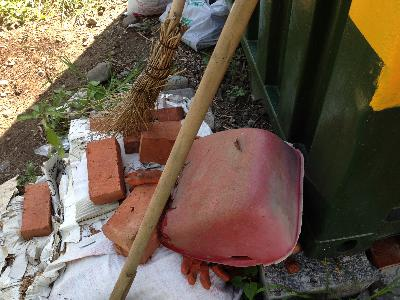bowl: (153, 126, 309, 270)
